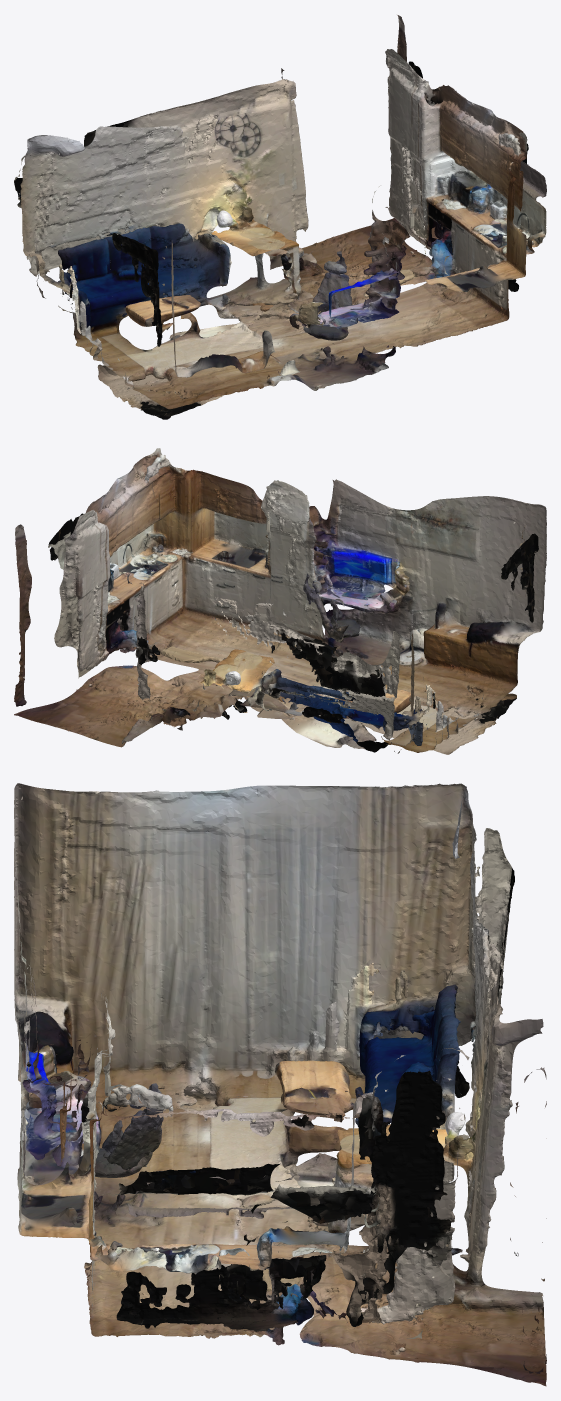
File: home.glb
3 views of the same model, one above another, from view 1: azimuth 30°, elevation 25°; view 2: azimuth 150°, elevation 25°; view 3: azimuth 270°, elevation 25° (orthographic). The views are drawn at different scales.
Size of the model in its own units: 6.4 by 2.97 by 4.33.
2 materials, 2 textured.
